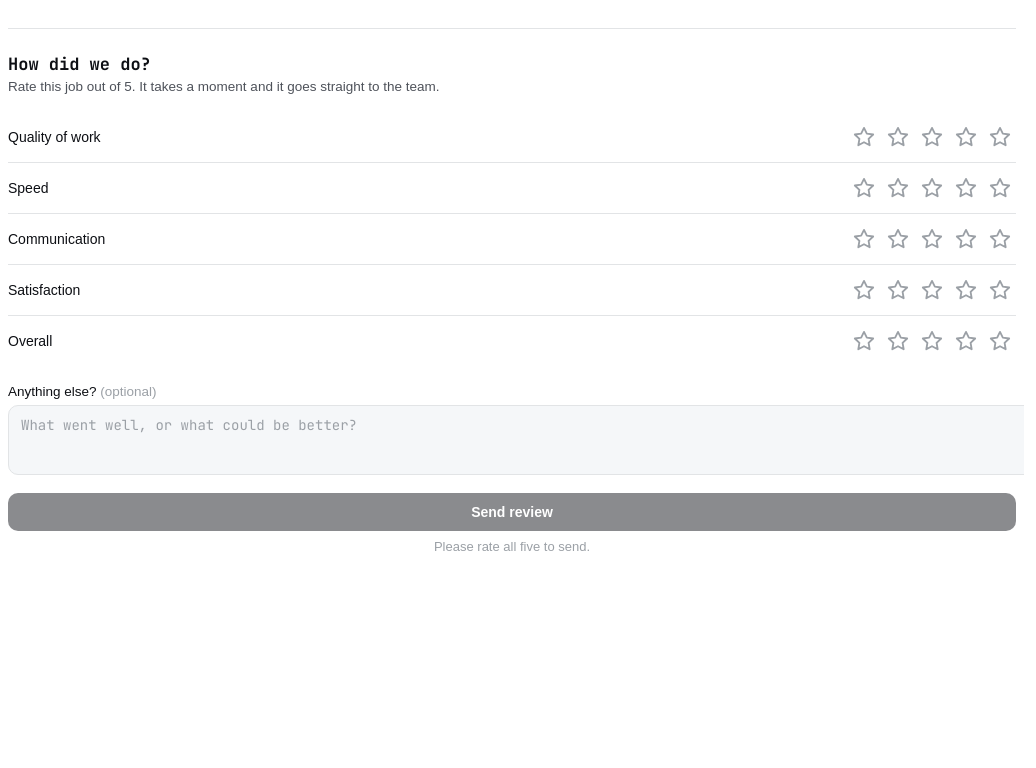
Scenario: ReviewForm › refuses to send until all five are rated
The image size is (1036, 768).
Expected: the button "Send review" is disabled, [8,493,1016,531]
Click the radio button named "5 out of 5" in the row of "Quality of work": {"x": 1000, "y": 137} [984,121,1016,153]
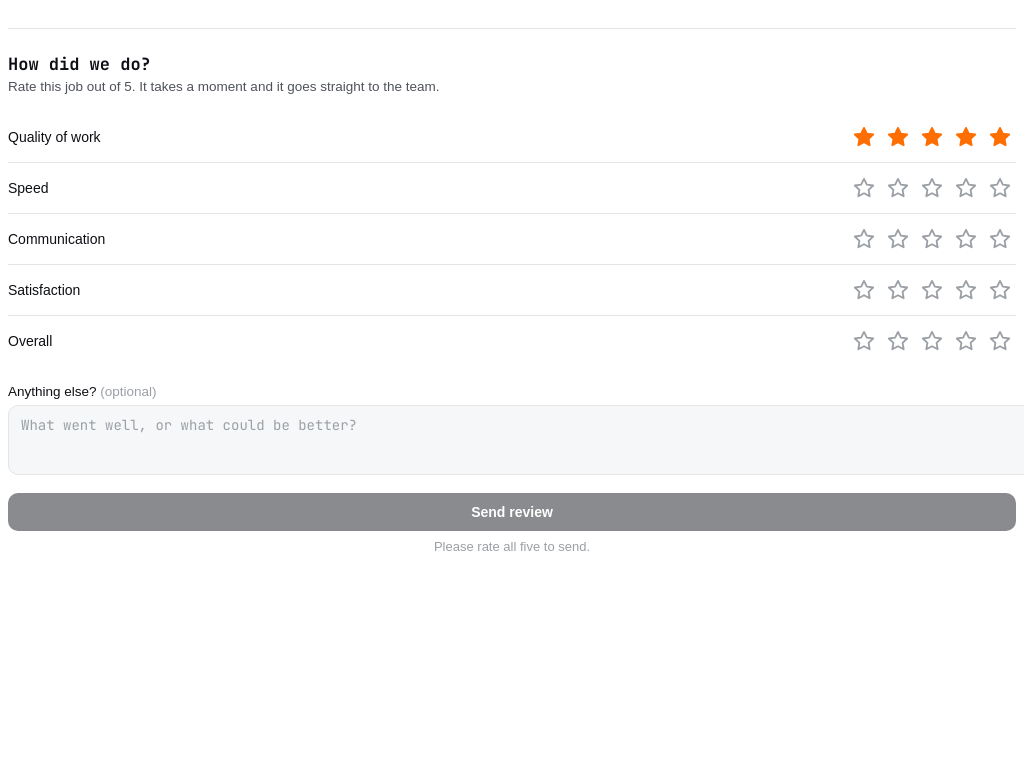
Click the radio button named "4 out of 5" in the row of "Speed": {"x": 966, "y": 188} [950,172,982,204]
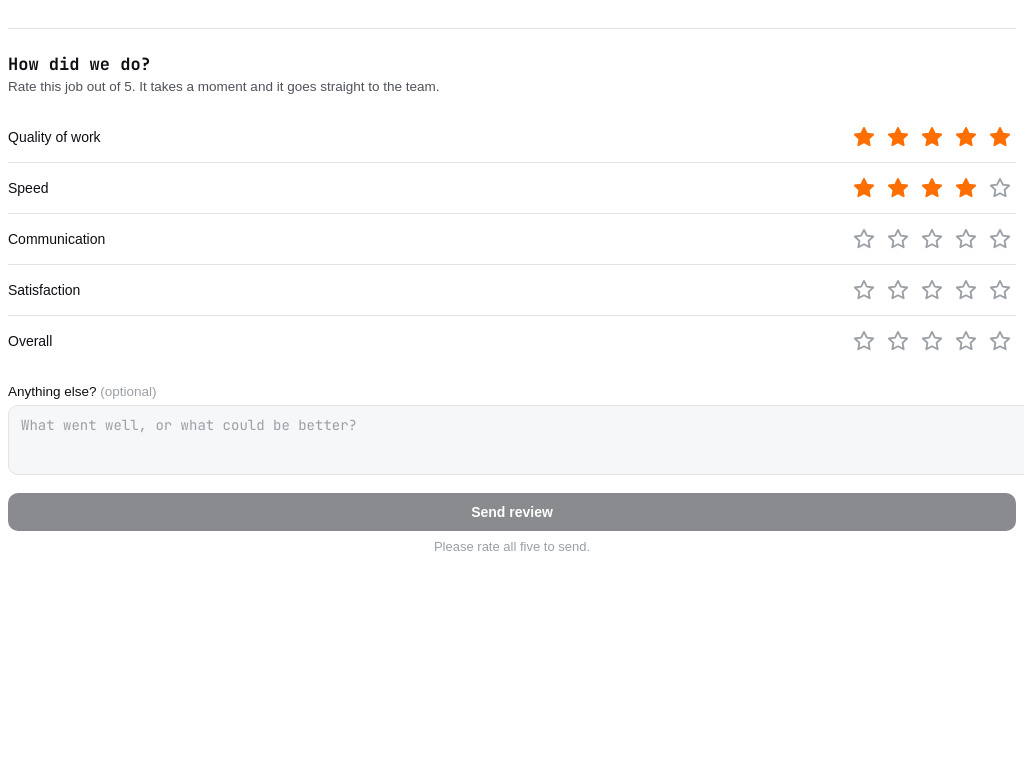
Click the radio button named "3 out of 5" in the row of "Communication": {"x": 932, "y": 239} [916,223,948,255]
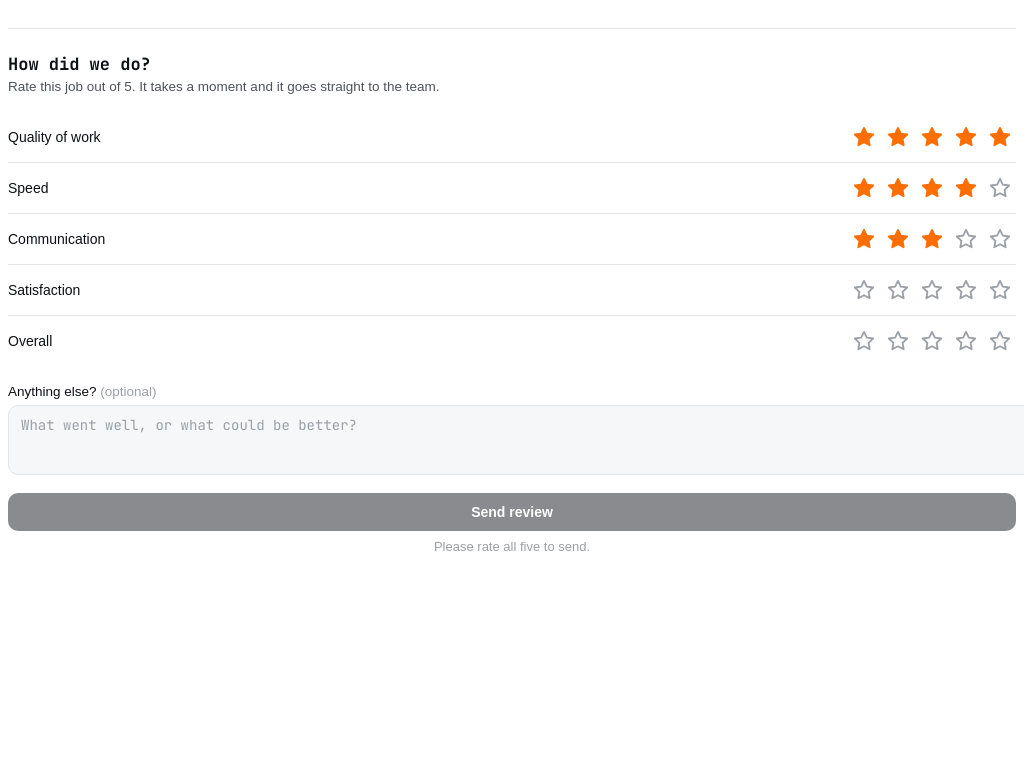
Click the radio button named "4 out of 5" in the row of "Satisfaction": {"x": 966, "y": 290} [950,274,982,306]
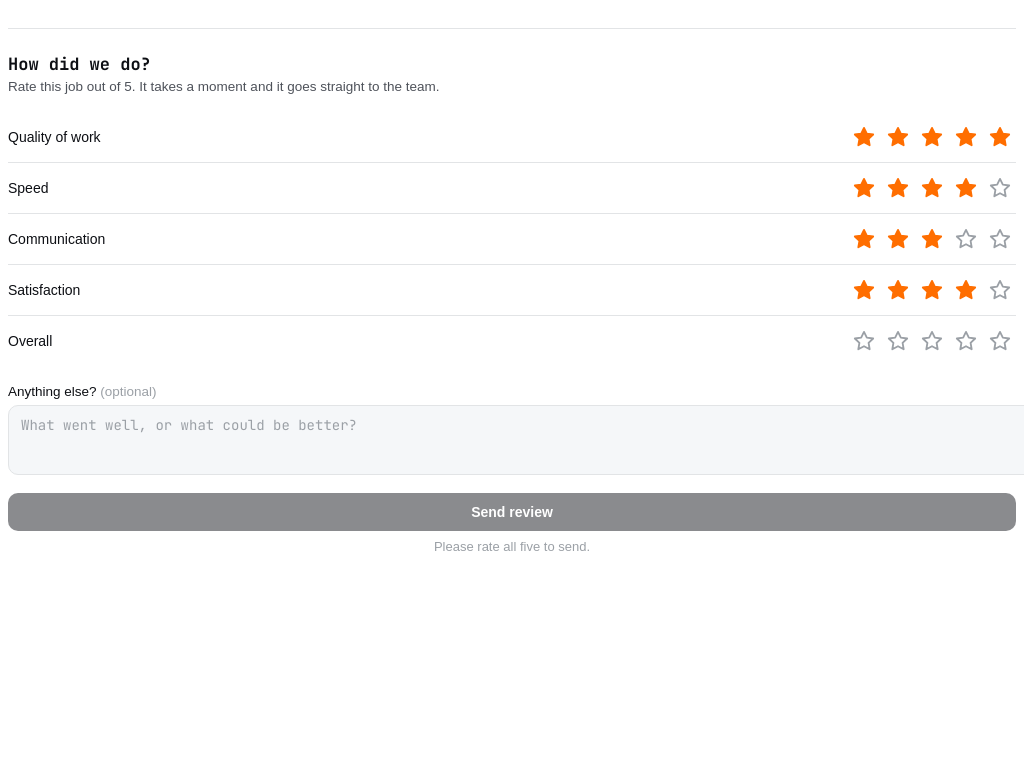
Expected: the button "Send review" is disabled, [8,493,1016,531]
Click the radio button named "4 out of 5" in the row of "Overall": {"x": 966, "y": 341} [950,325,982,357]
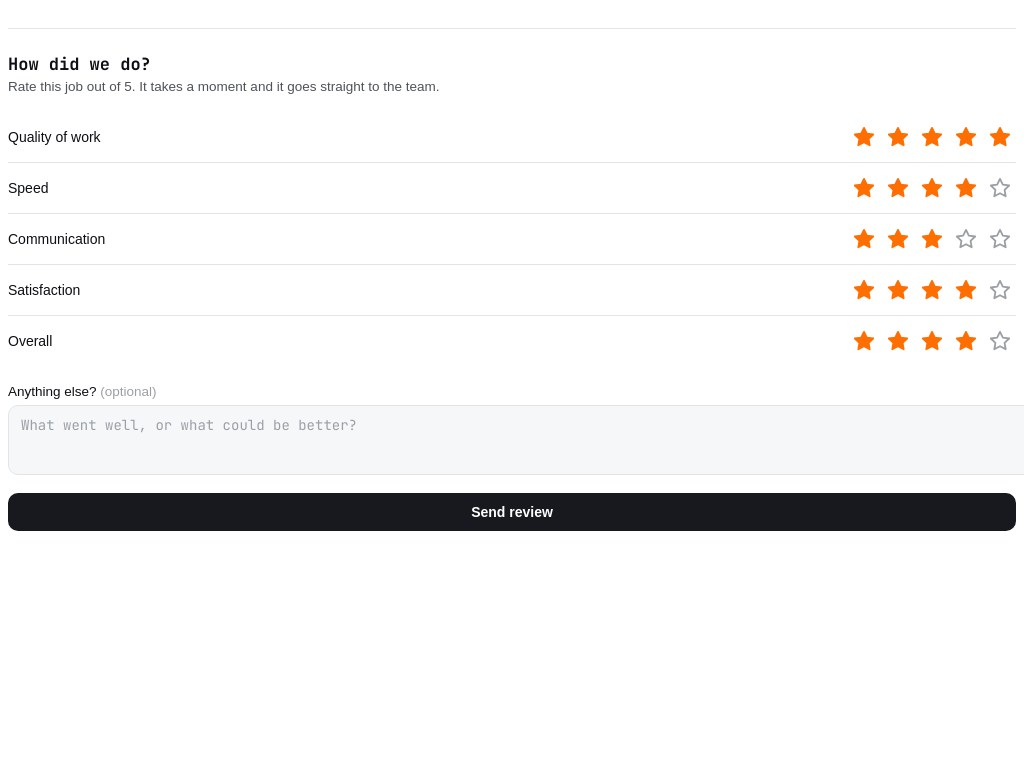
Expected: the button "Send review" is enabled, [8,493,1016,531]
